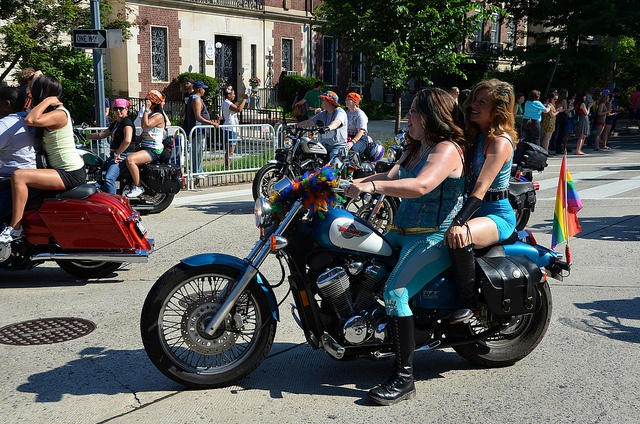non-vehicle: (137, 144, 573, 370), (341, 143, 545, 232), (12, 181, 156, 279), (72, 121, 183, 214), (252, 114, 343, 194)
